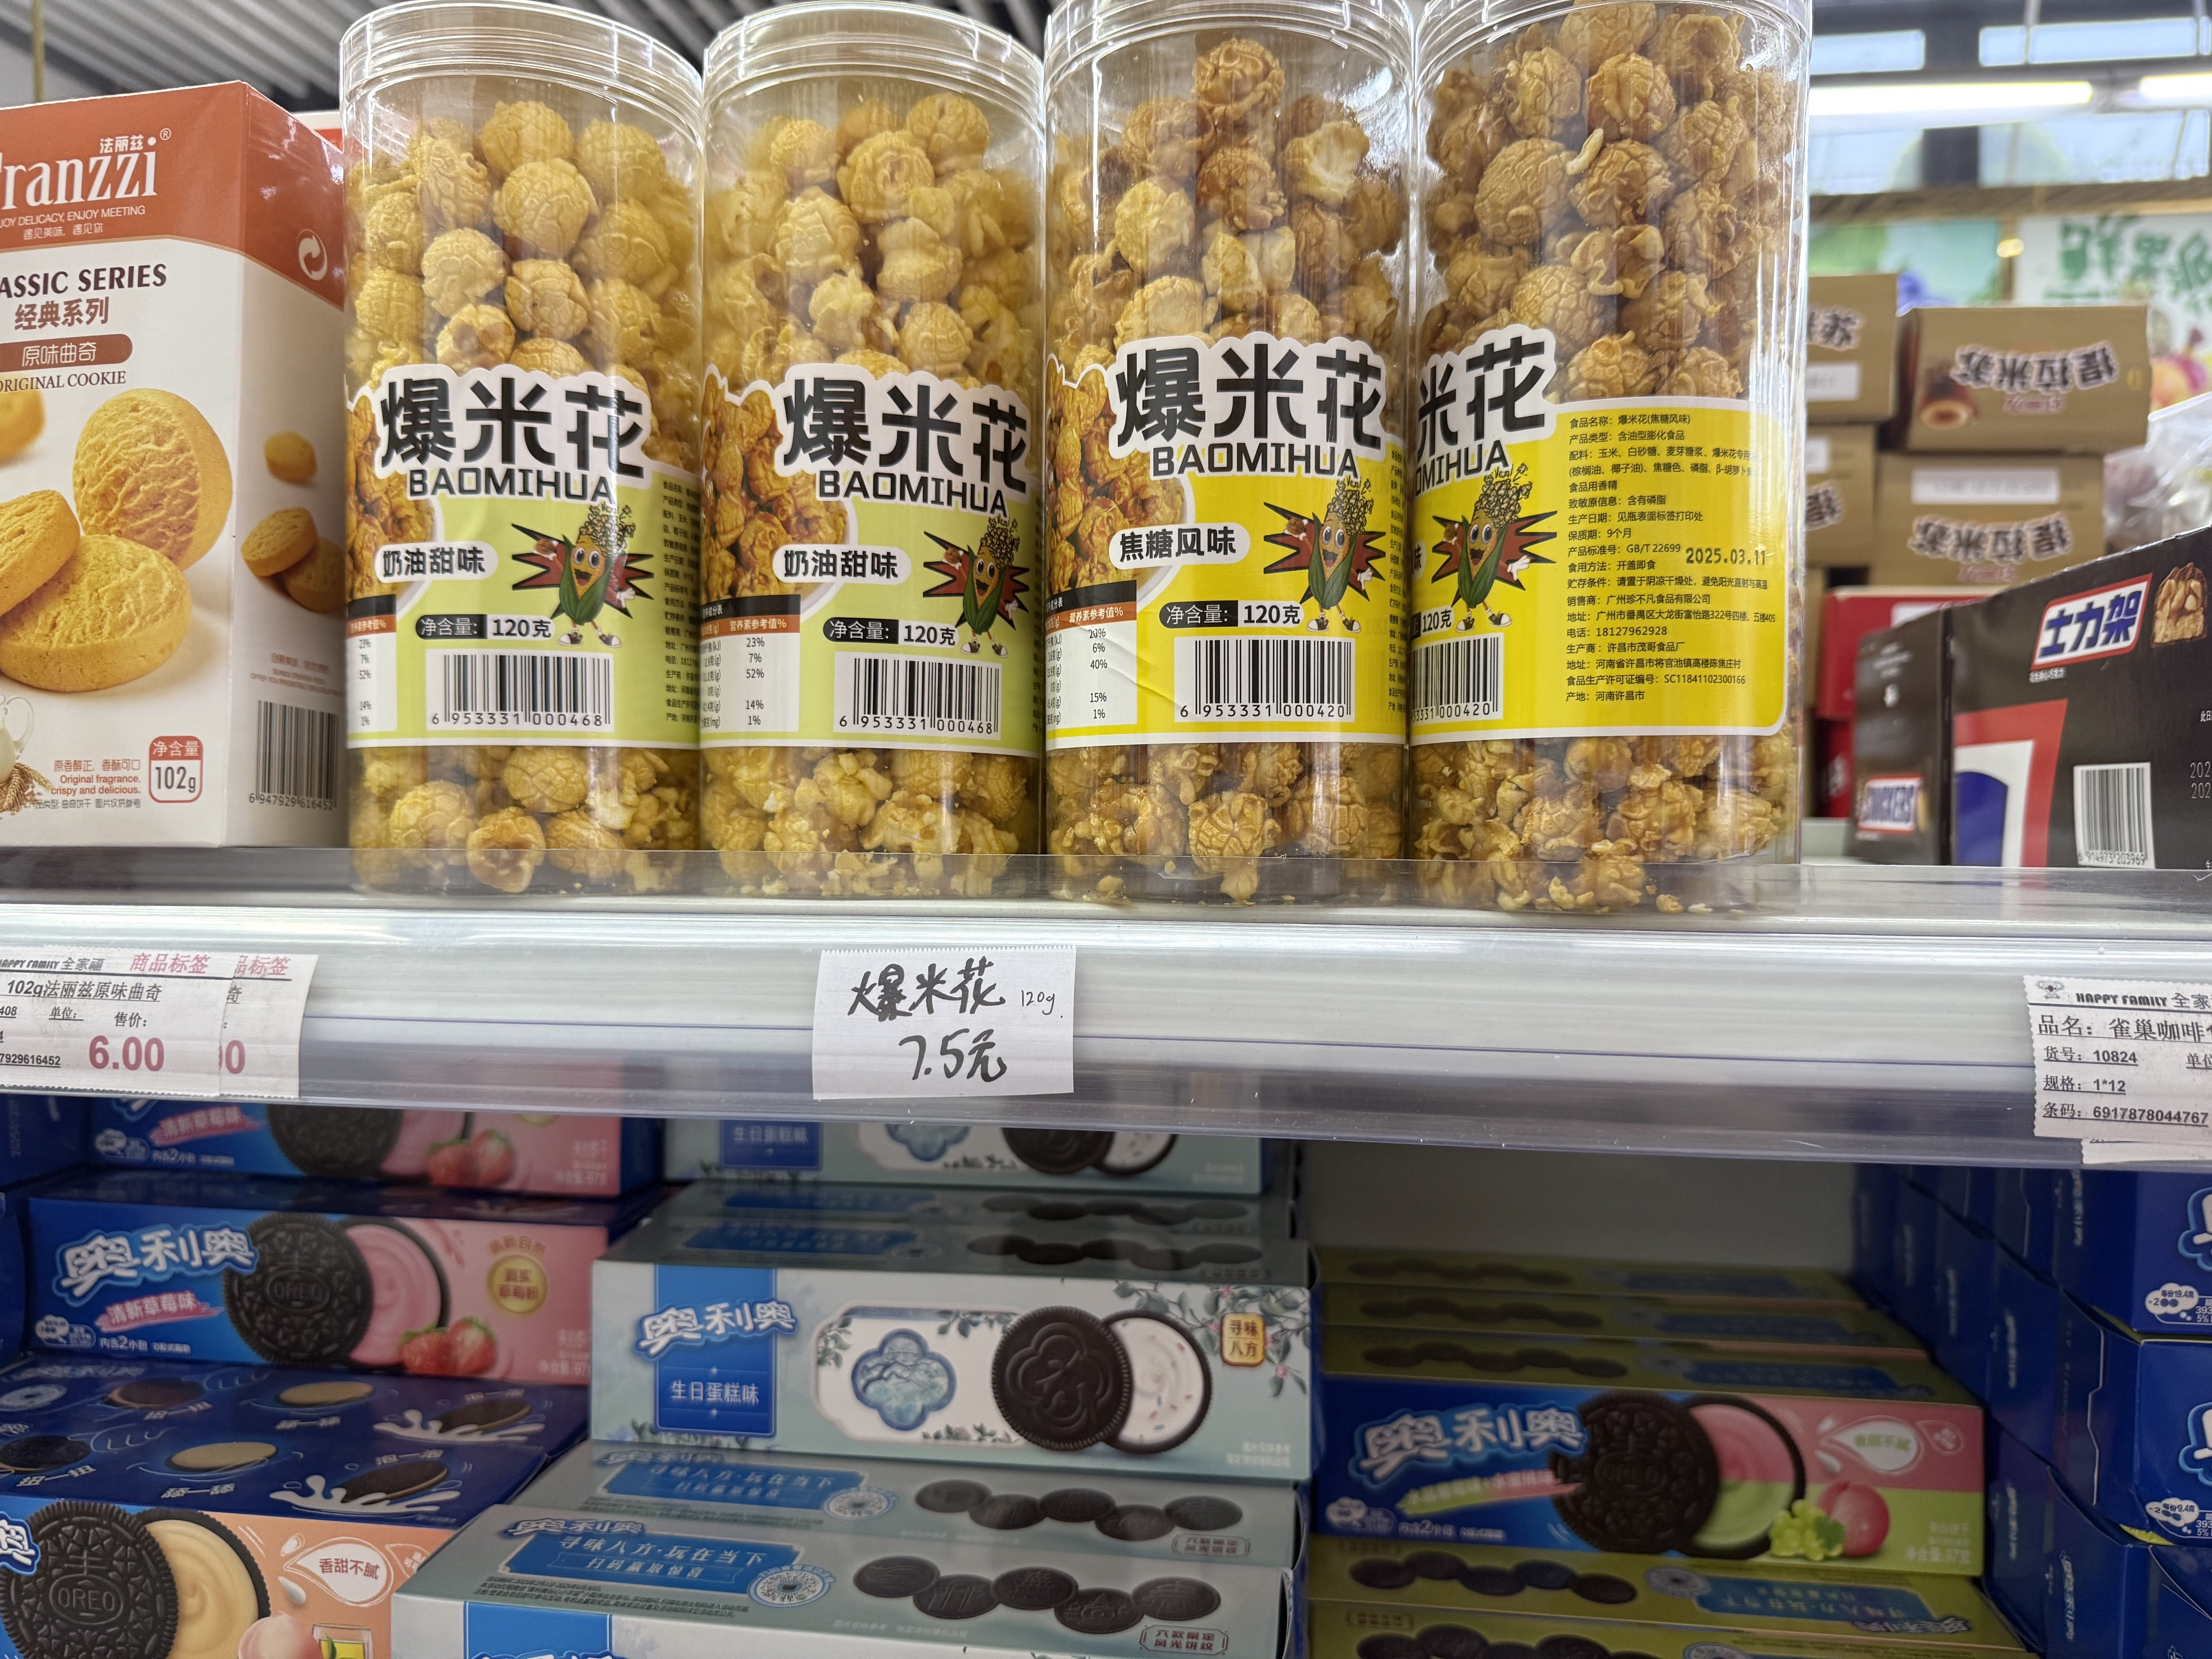bar: (434, 643, 617, 728), (843, 648, 1008, 742), (1184, 634, 1355, 718), (249, 695, 347, 814), (1404, 631, 1505, 718)
